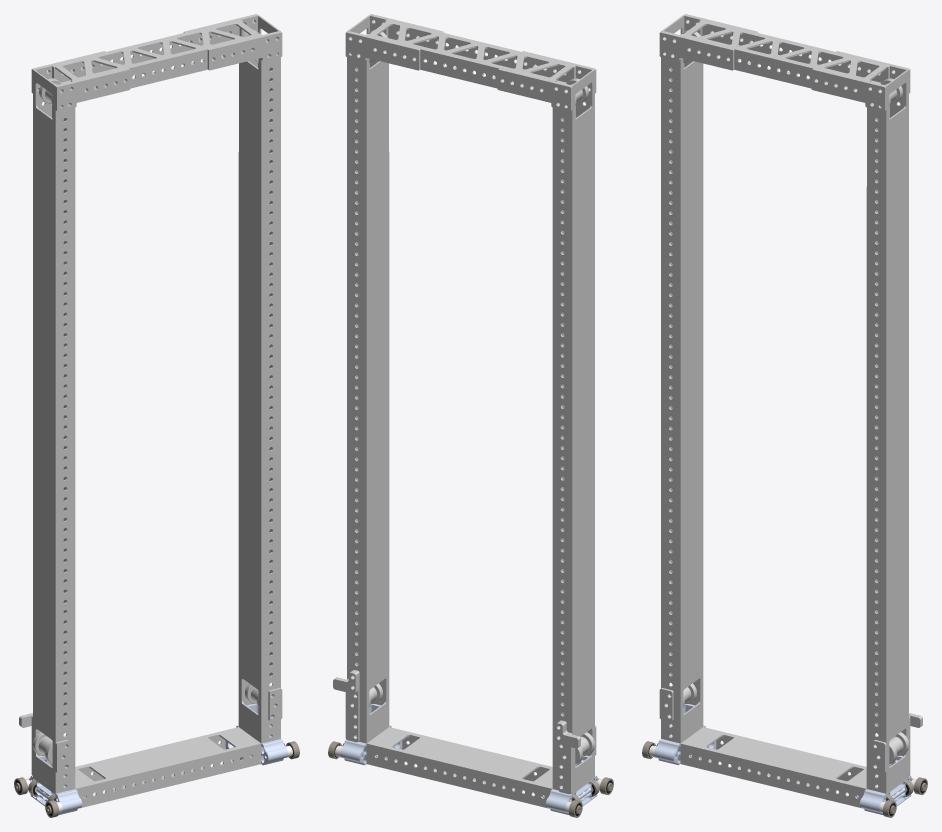
The picture shows the model from 3 angles, left to right: view 1: azimuth 30°, elevation 25°; view 2: azimuth 150°, elevation 25°; view 3: azimuth 330°, elevation 25°; orthographic projection.
Visible parts, largest first — view 1: Component12, Component12(Mirror), Component15, elevator mid top plate v1, Component62, Component62(Mirror), WCP-0199-001 Rev2, WCP-0199-001 Rev2(Mirror) (1); view 2: Component12, Component12(Mirror), Component15, elevator mid top plate v1, Component62, Component62(Mirror), WCP-0199-001 Rev2, Component10(Mirror) (1), Component10, WCP-0199-001 Rev2(Mirror) (1); view 3: Component12(Mirror), Component12, Component15, elevator mid top plate v1, Component62(Mirror), Component62, WCP-0199-001 Rev2(Mirror) (1), WCP-0199-001 Rev2.
Boxes of the visible parts, x1,y1,x2,y2 form: Component12: (33, 65, 75, 793); Component12(Mirror): (238, 15, 280, 743); Component15: (75, 727, 261, 808); elevator mid top plate v1: (53, 19, 260, 91); Component62: (55, 68, 130, 111); Component62(Mirror): (207, 31, 282, 70); WCP-0199-001 Rev2: (28, 755, 82, 814); WCP-0199-001 Rev2(Mirror) (1): (236, 704, 287, 765); Component12: (552, 65, 594, 793); Component12(Mirror): (347, 15, 389, 743); Component15: (366, 727, 552, 808); elevator mid top plate v1: (367, 19, 574, 91); Component62: (497, 68, 572, 111); Component62(Mirror): (345, 31, 420, 70); WCP-0199-001 Rev2: (545, 755, 599, 814); Component10(Mirror) (1): (345, 670, 359, 742); Component10: (558, 720, 572, 794); WCP-0199-001 Rev2(Mirror) (1): (340, 704, 391, 765); Component12(Mirror): (866, 65, 908, 793); Component12: (661, 15, 703, 743); Component15: (680, 727, 866, 808); elevator mid top plate v1: (681, 19, 888, 91); Component62(Mirror): (811, 68, 886, 111); Component62: (659, 31, 734, 70); WCP-0199-001 Rev2(Mirror) (1): (859, 755, 913, 814); WCP-0199-001 Rev2: (654, 704, 705, 765).
Bounding box in the file's own units: 0.3223 × 0.9017 × 0.0889.
